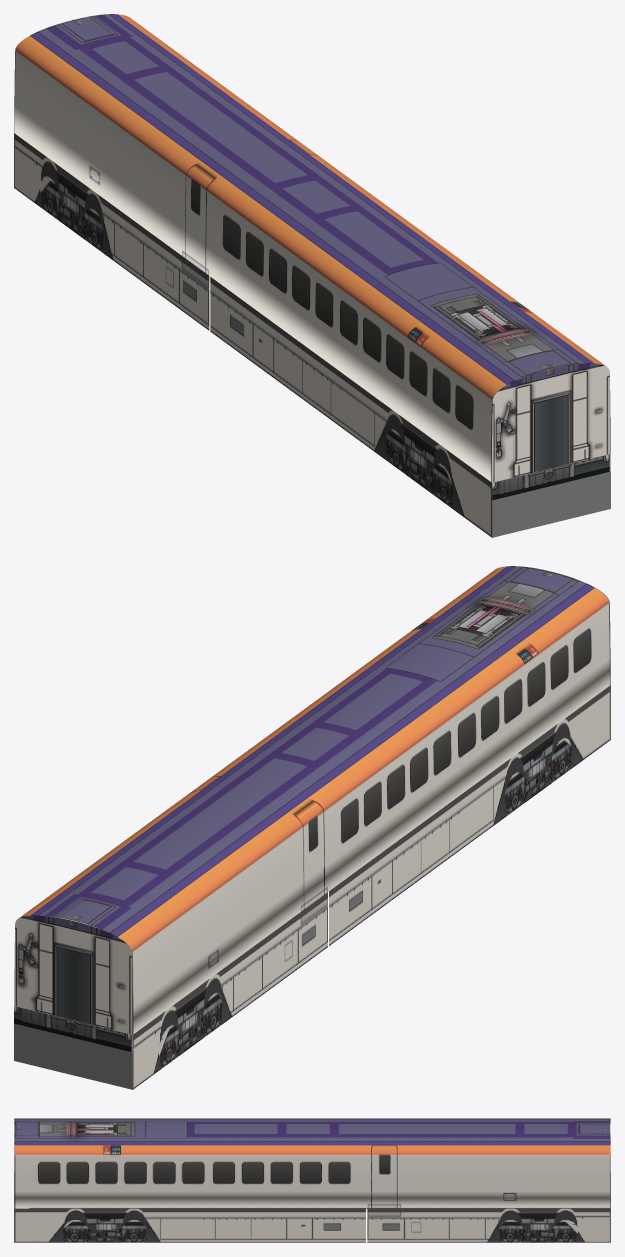
The model's file is car2.glb.
3 renders of one model, top to bottom at view 1: azimuth 30°, elevation 25°; view 2: azimuth 150°, elevation 25°; view 3: azimuth 270°, elevation 25°, orthographic. The views are drawn at different scales.
Visible parts, largest first — view 1: jr-east-e8-car2; view 2: jr-east-e8-car2; view 3: jr-east-e8-car2.
Boxes of the visible parts, <box> form: jr-east-e8-car2: <box>14,14,610,537</box>; jr-east-e8-car2: <box>14,566,610,1089</box>; jr-east-e8-car2: <box>14,1118,610,1242</box>.
Size of the model in its own units: 2.94 by 3.65 by 20.53.
9 materials, 8 textured.
